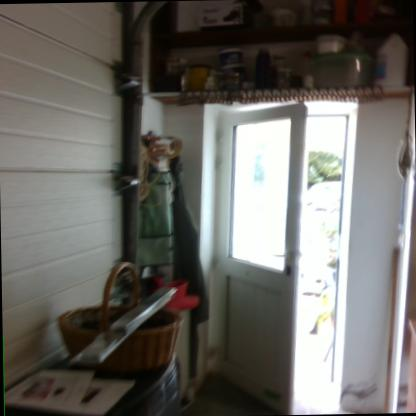semi: (192, 90, 376, 416)
